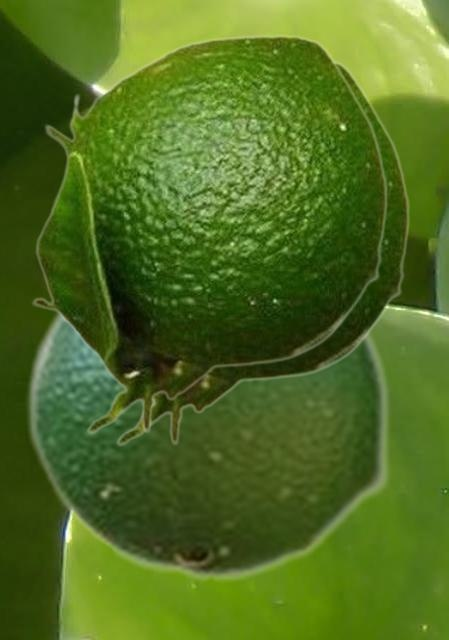dalandan: (30, 34, 387, 434), (61, 60, 409, 446), (25, 312, 391, 583)
